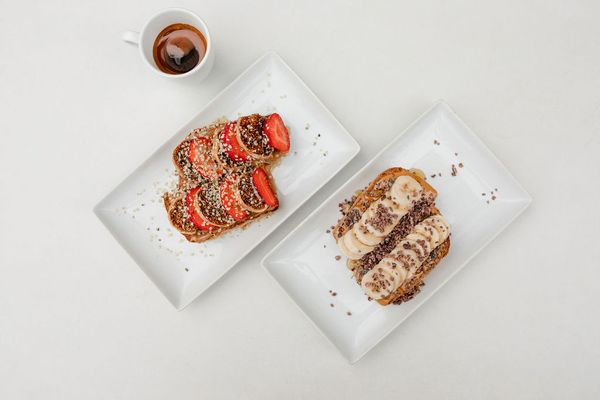sandwich: (162, 112, 291, 242)
sushi: (329, 164, 452, 305)
